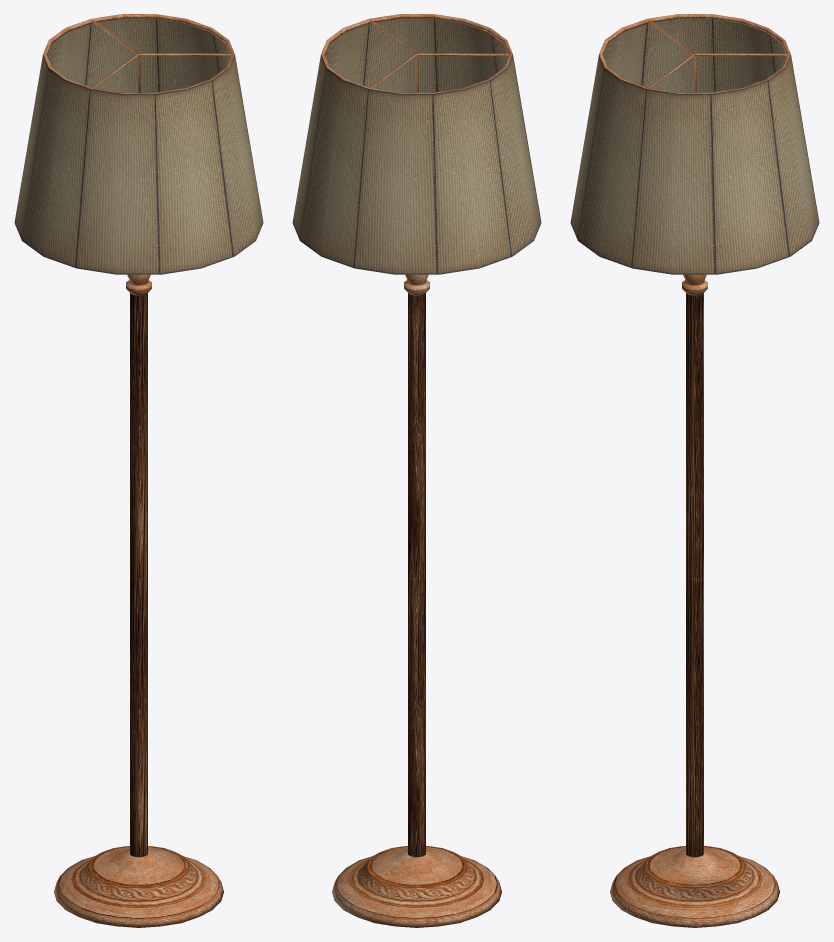
File: o_lamp_standing_shade_02_a.obj
The picture shows the model from 3 angles, left to right: view 1: azimuth 30°, elevation 25°; view 2: azimuth 150°, elevation 25°; view 3: azimuth 270°, elevation 25°; orthographic projection.
Parts seen in each view (by area): view 1: o_lamp_standing_shade_02_a.mo_o_lamp_standing_shade_02_a.md; view 2: o_lamp_standing_shade_02_a.mo_o_lamp_standing_shade_02_a.md; view 3: o_lamp_standing_shade_02_a.mo_o_lamp_standing_shade_02_a.md.
Boxes of the visible parts, x1,y1,x2,y2 form: o_lamp_standing_shade_02_a.mo_o_lamp_standing_shade_02_a.md: (14, 14, 263, 927); o_lamp_standing_shade_02_a.mo_o_lamp_standing_shade_02_a.md: (292, 14, 541, 927); o_lamp_standing_shade_02_a.mo_o_lamp_standing_shade_02_a.md: (570, 14, 819, 927).
Bounding box in the file's own units: 0.2951 × 1.11 × 0.2996.
2 materials, 2 textured.
